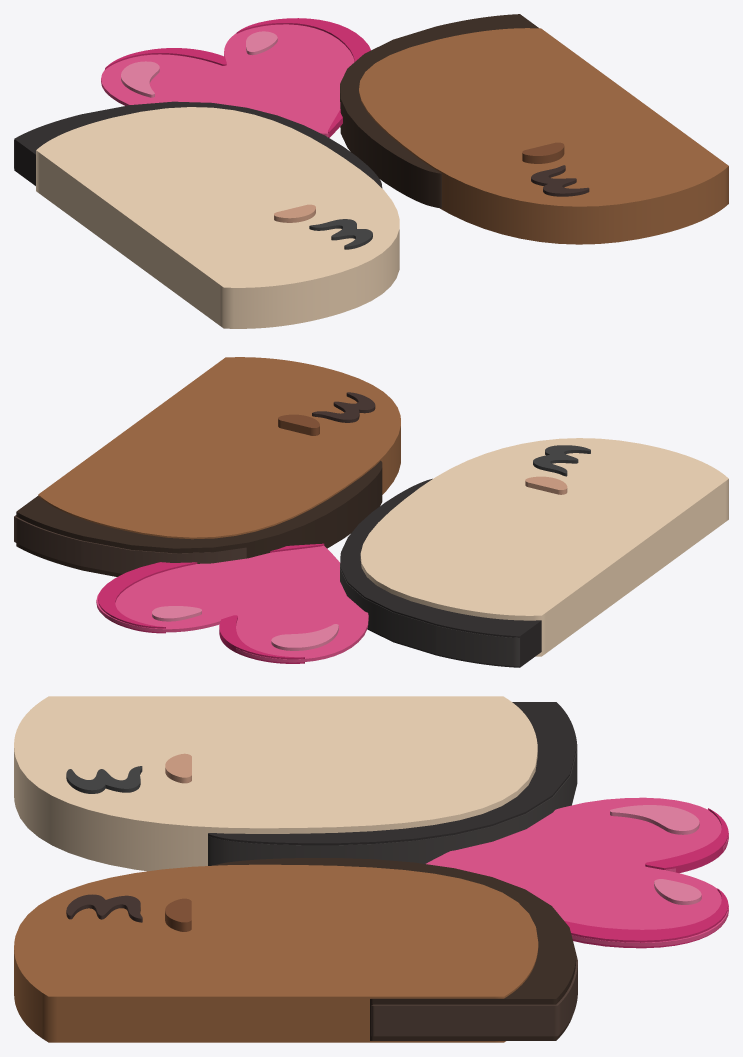
The model's file is emoji_u1f468_1f3fb_200d_2764_200d_1f48b_200d_1f468_1f3fe.glb.
3 views of the same model, one above another, from view 1: azimuth 30°, elevation 25°; view 2: azimuth 150°, elevation 25°; view 3: azimuth 270°, elevation 25° (orthographic). The views are drawn at different scales.
Visible parts, largest first — view 1: emoji_u1f468_1f3fb_200d_2764_200d_1f48b_200d_1f468_1f3fe; view 2: emoji_u1f468_1f3fb_200d_2764_200d_1f48b_200d_1f468_1f3fe; view 3: emoji_u1f468_1f3fb_200d_2764_200d_1f48b_200d_1f468_1f3fe.
Boxes of the visible parts, x1,y1,x2,y2 form: emoji_u1f468_1f3fb_200d_2764_200d_1f48b_200d_1f468_1f3fe: [14, 14, 728, 328]; emoji_u1f468_1f3fb_200d_2764_200d_1f48b_200d_1f468_1f3fe: [14, 357, 728, 667]; emoji_u1f468_1f3fb_200d_2764_200d_1f48b_200d_1f468_1f3fe: [14, 696, 728, 1042].
Size of the model in its own units: 0.0336 by 0.0034 by 0.0339.
